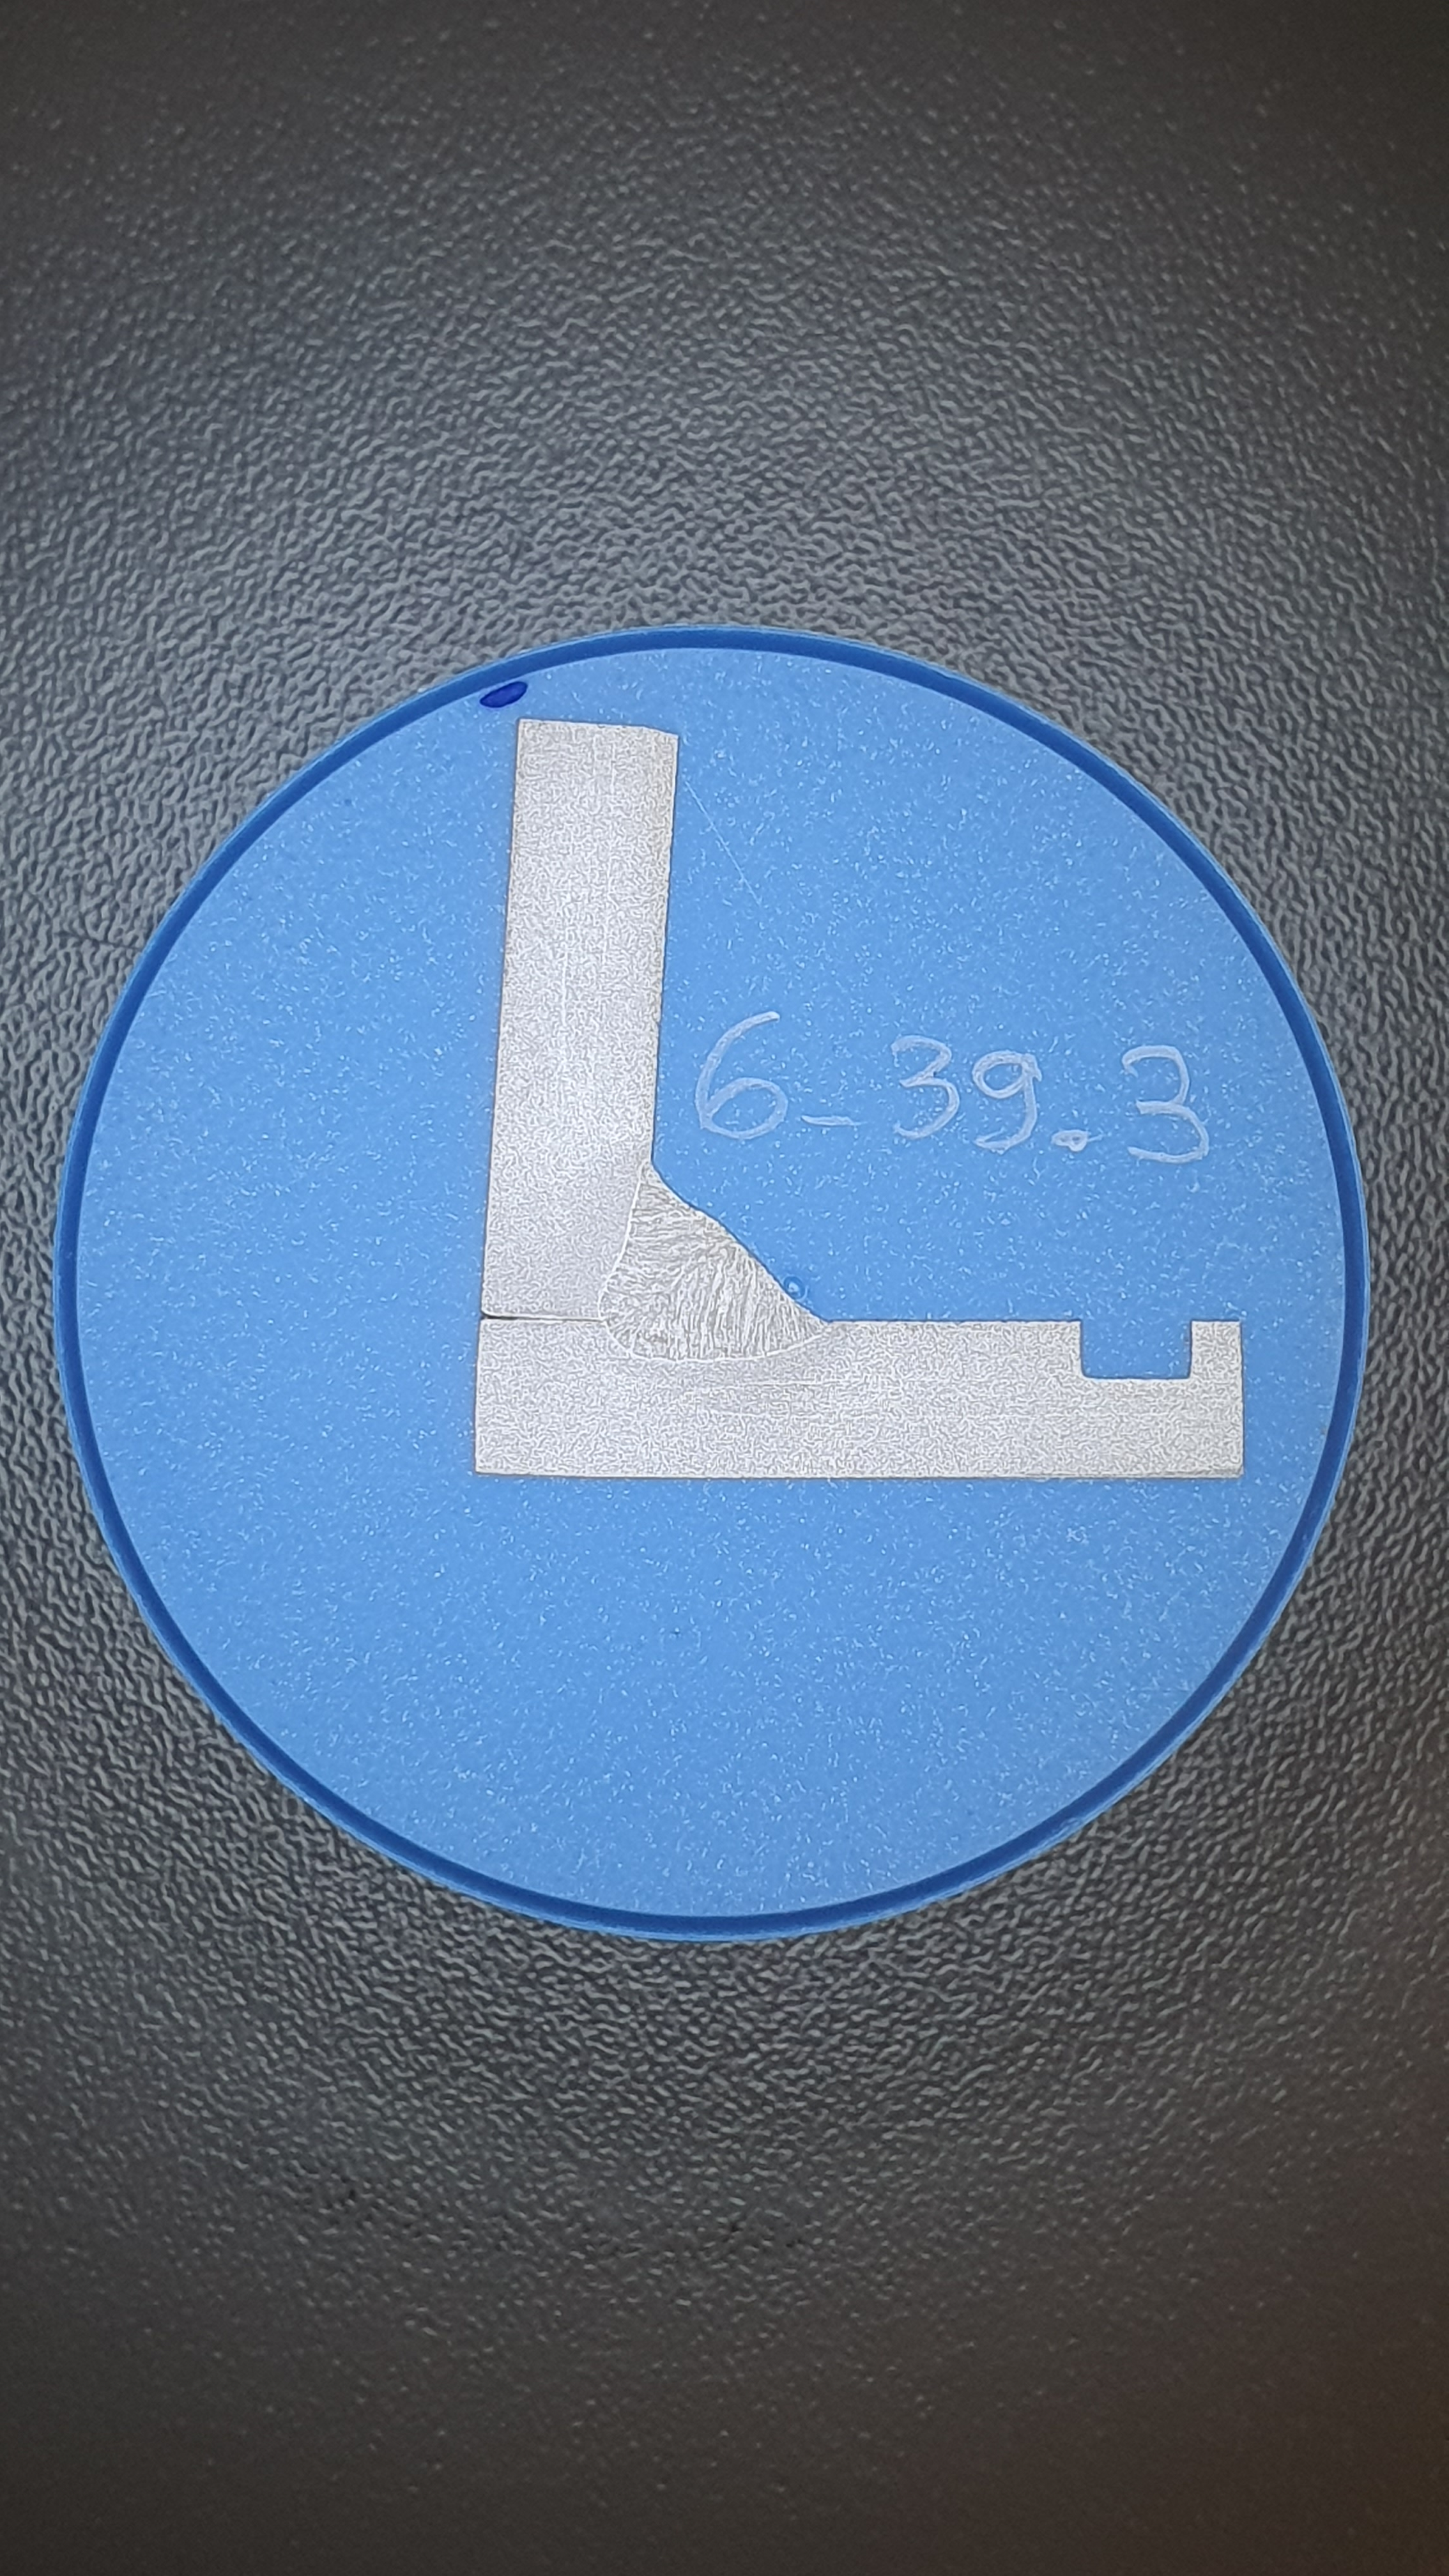Fusion: (599, 1160, 832, 1361)
Hintergrund: (80, 648, 1345, 1915)
Metall: (474, 717, 1244, 1479)
Nebenbereich: (539, 1144, 860, 1393)
